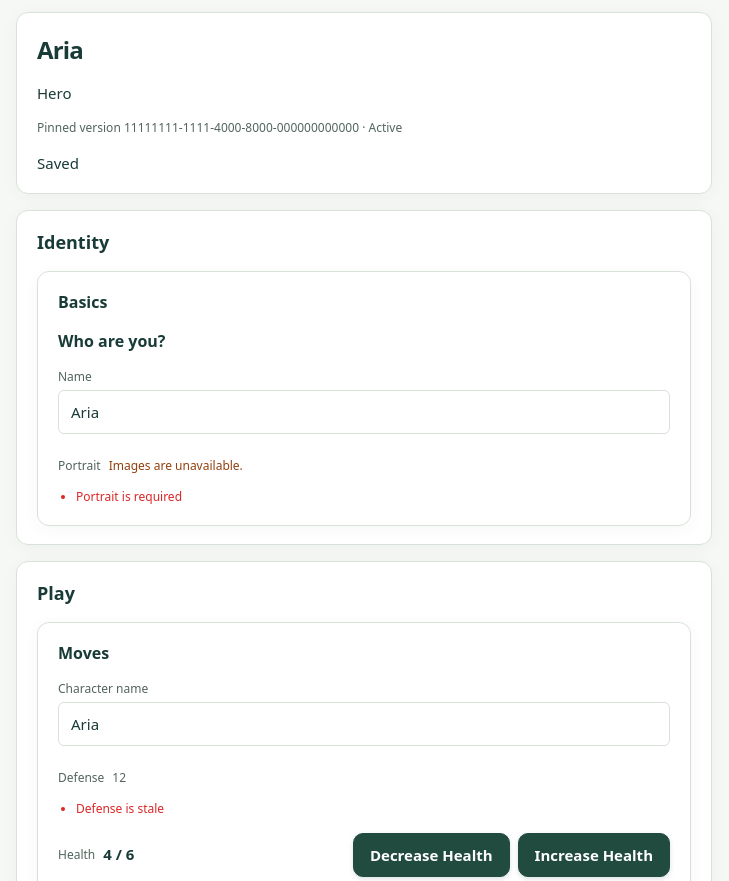
Test: CharacterSheet › surfaces rejected bump commands without unhandled rejections
The width and height of the screenshot is (729, 881).
What coordinates should you click on to do the following:
click the button "Increase Health"
I would click on:
 (594, 855)
Its box is [518,833,670,877].
(page scrolled)
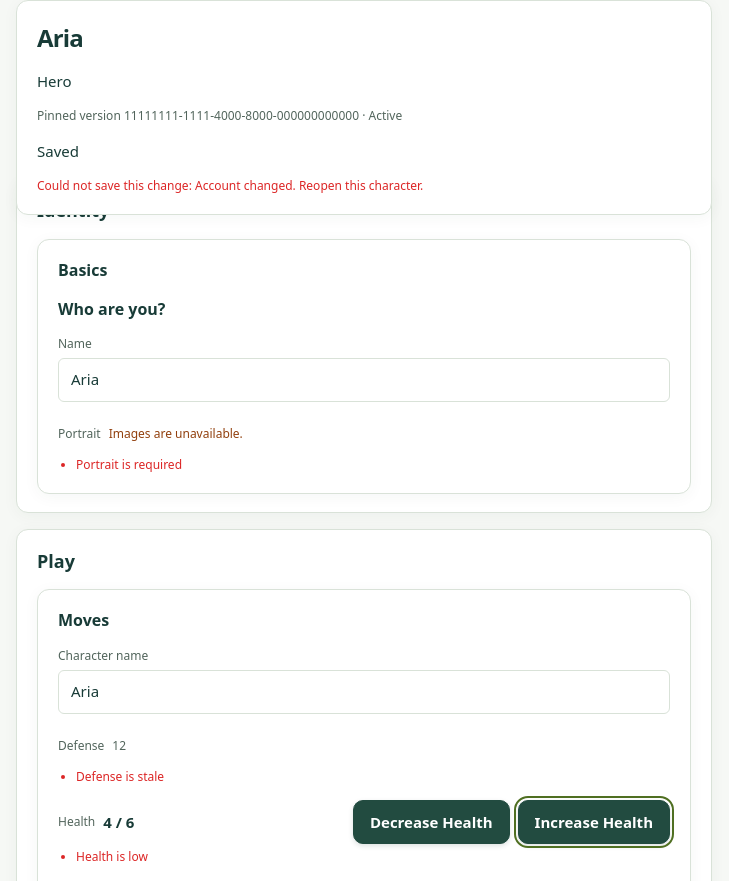
Expected: the message "Could not save this change: Account changed. Reopen this character." is shown, [37,177,423,194]
